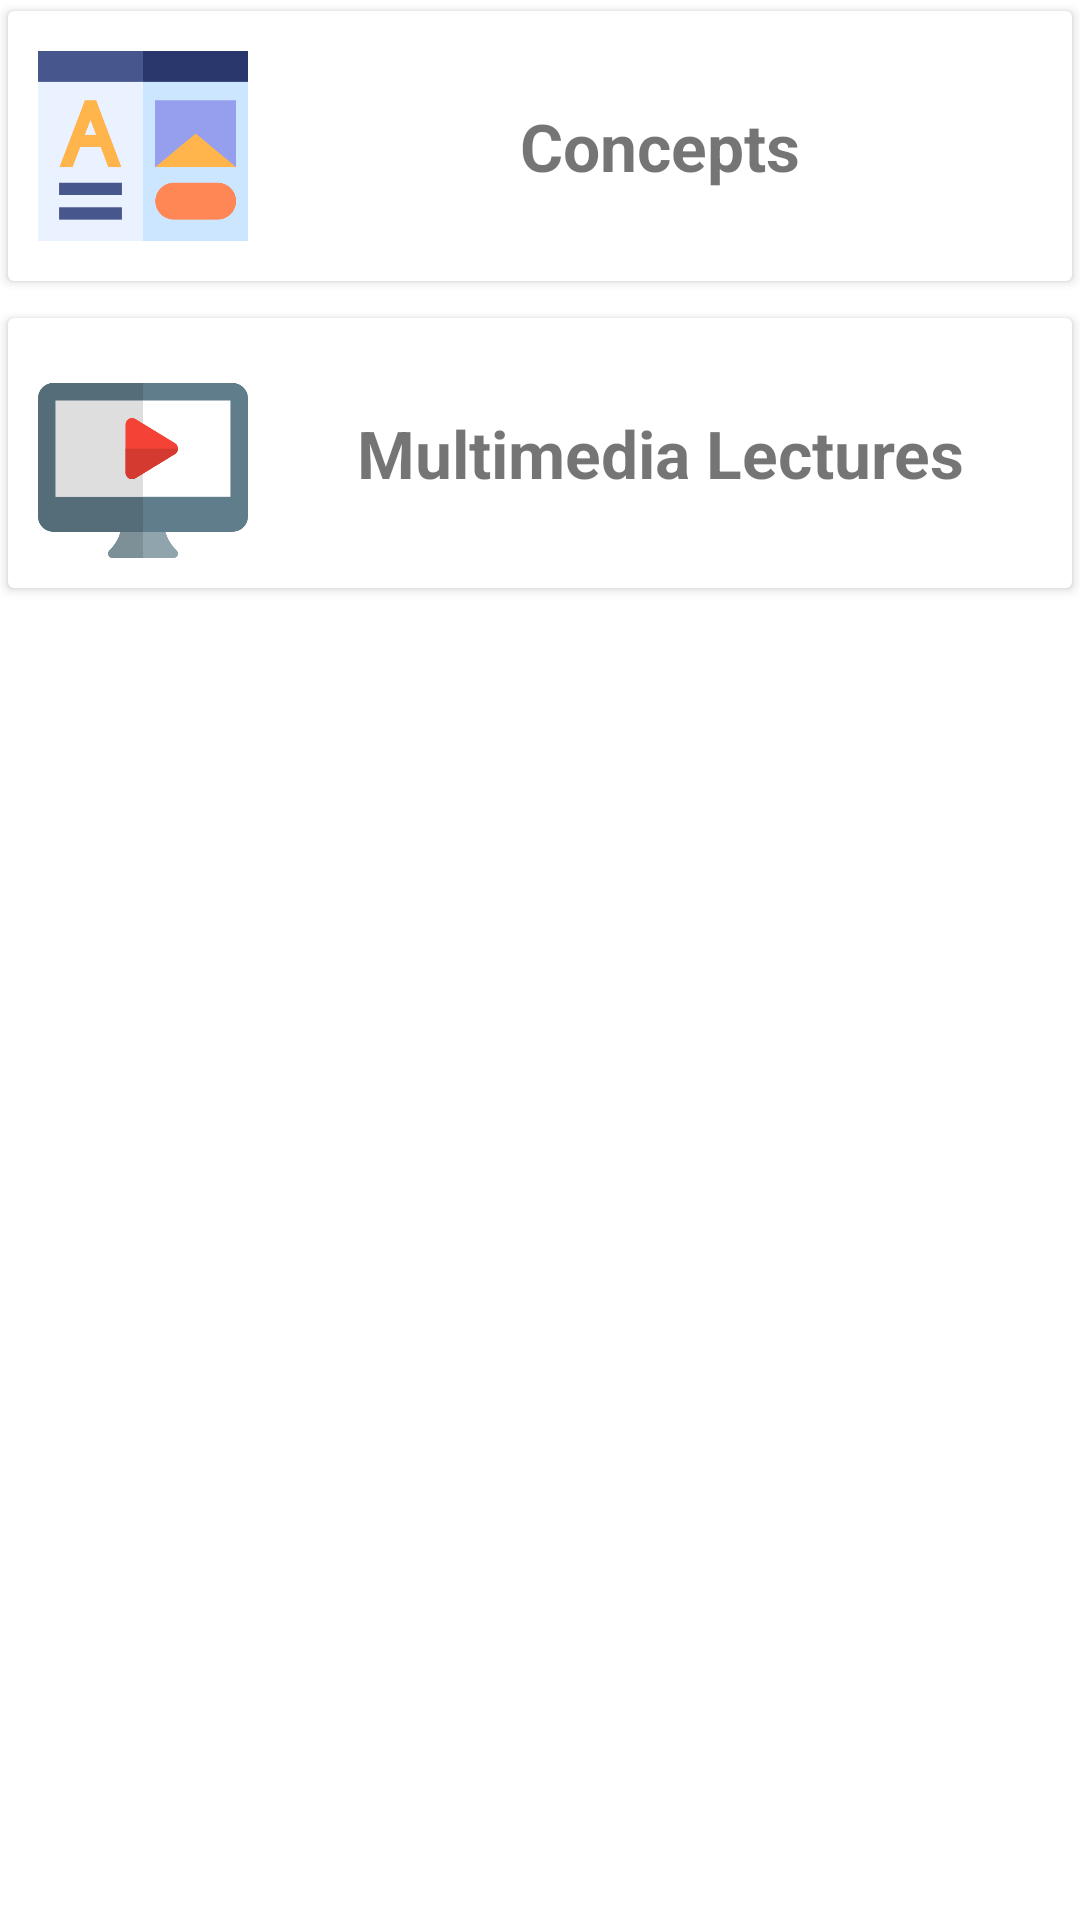

Named icons in this screenshot (1080 x 1920) and their centers, point (x, y):
content: point (143, 146)
